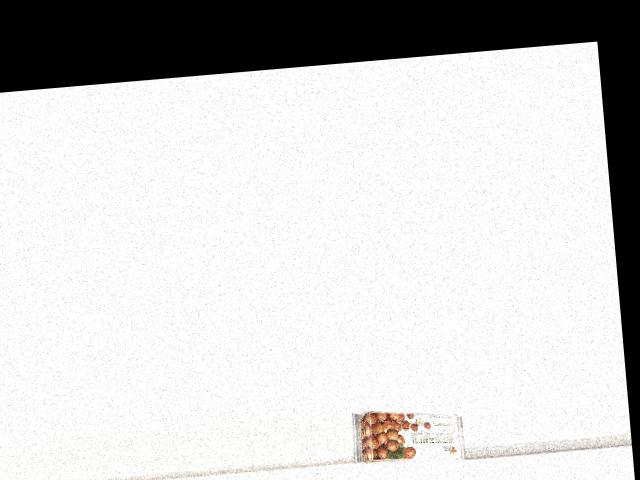chocolate: (351, 402, 466, 465)
